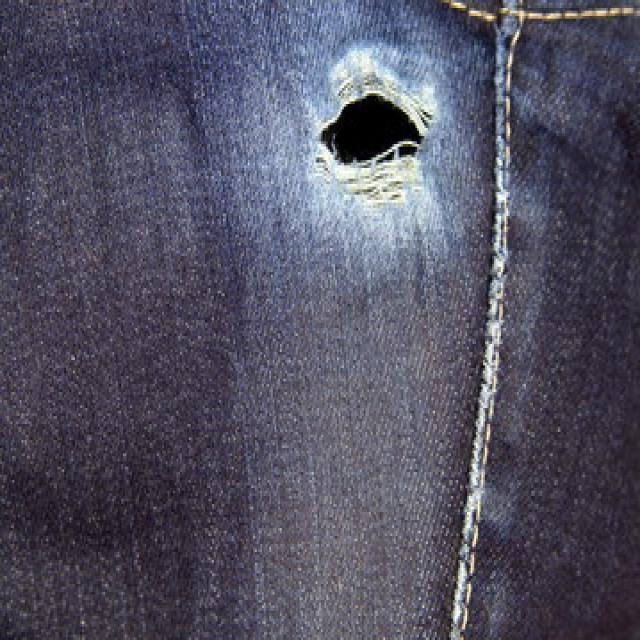Hole: (315, 50, 435, 207)
Line: (449, 0, 527, 640)
